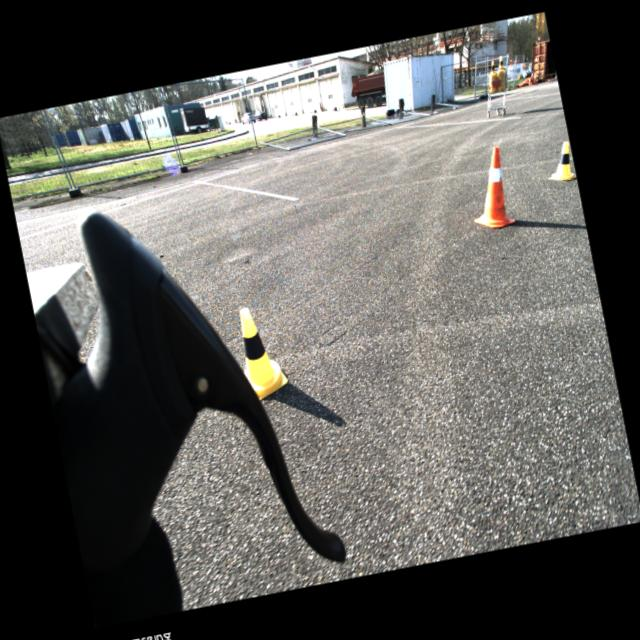large_orange_cone: (461, 146, 516, 232)
yellow_cone: (232, 302, 291, 402), (542, 140, 576, 183), (494, 56, 506, 72), (488, 60, 498, 76)
